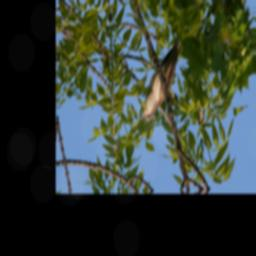Cuckoo: (139, 35, 184, 121)
